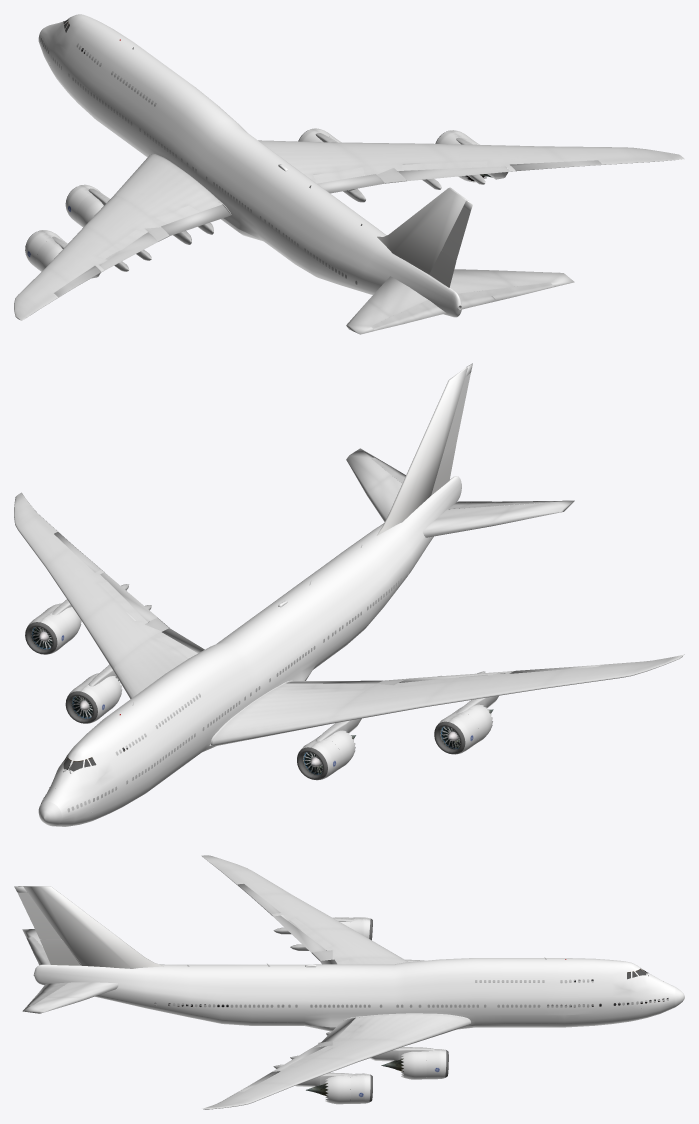
The picture shows the model from 3 angles, top to bottom: view 1: azimuth 30°, elevation 25°; view 2: azimuth 150°, elevation 25°; view 3: azimuth 270°, elevation 25°; orthographic projection. The views are drawn at different scales.
Visible parts, largest first — view 1: rootNode, hstab_R, hstab_L, elevator_right, elevator_left; view 2: rootNode, hstab_L, hstab_R; view 3: rootNode, hstab_R.
Part boxes in pixels (bbox=[...]): rootNode: bbox=[14, 14, 684, 320]; hstab_R: bbox=[450, 269, 574, 293]; hstab_L: bbox=[346, 276, 427, 334]; elevator_right: bbox=[458, 282, 554, 309]; elevator_left: bbox=[371, 300, 446, 330]; rootNode: bbox=[14, 363, 684, 826]; hstab_L: bbox=[423, 500, 574, 537]; hstab_R: bbox=[346, 448, 401, 521]; rootNode: bbox=[14, 855, 684, 1109]; hstab_R: bbox=[22, 982, 118, 1013].
Size of the model in its own units: 68.4 by 18.57 by 76.55.
Materials: 33 (16 with a texture image).
